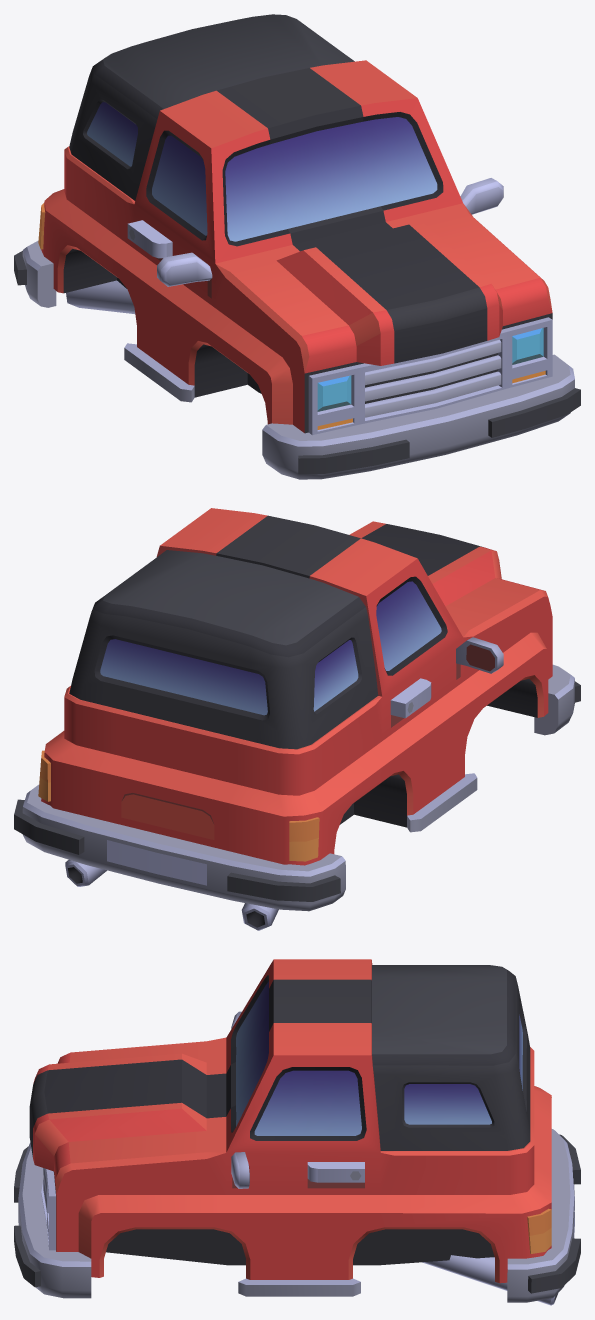
File: PickupWithTrunk_Red.fbx
3 views of the same model, one above another, from view 1: azimuth 30°, elevation 25°; view 2: azimuth 150°, elevation 25°; view 3: azimuth 270°, elevation 25° (orthographic). The views are drawn at different scales.
Parts seen in each view (by area): view 1: Car_5_Enemy; view 2: Car_5_Enemy; view 3: Car_5_Enemy.
Boxes of the visible parts, x1,y1,x2,y2 form: Car_5_Enemy: [14, 14, 580, 479]; Car_5_Enemy: [14, 508, 580, 930]; Car_5_Enemy: [14, 959, 580, 1305].
Bounding box in the file's own units: 3.01 × 2.32 × 4.52.
